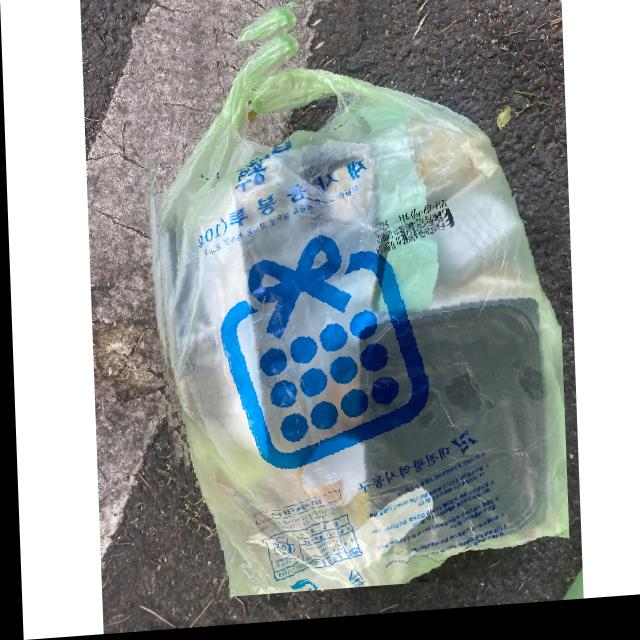general_trashbag: (154, 33, 564, 599)
